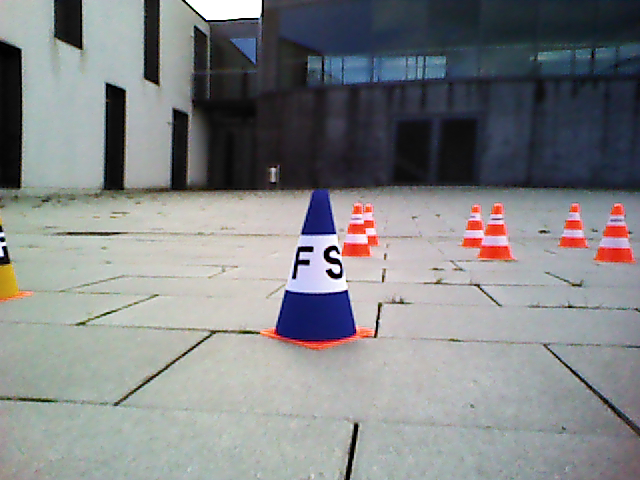bluecone: (277, 187, 356, 344)
orangeconesmall: (594, 202, 635, 261), (478, 203, 515, 258), (342, 203, 368, 258), (561, 202, 588, 244), (462, 204, 487, 246), (364, 205, 381, 243)
